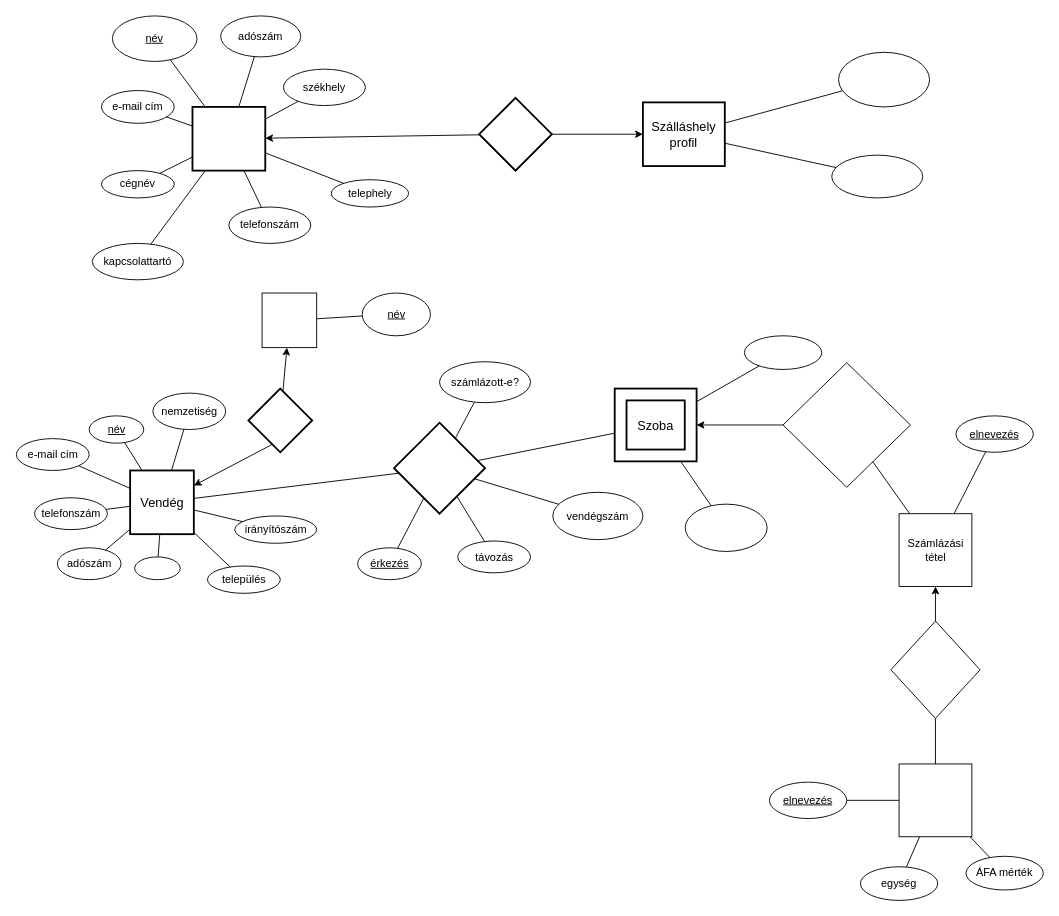
The diagram is 1059 pixels wide and 916 high, and some of its shapes have lost their labels. Here are the shapes that lost their labels. From the top down, the box of each, then its label:
(838, 51, 930, 107): szálláshely azonosító
(191, 106, 266, 171): Szálláshely
(478, 96, 552, 171): regisztrál
(831, 154, 923, 198): jelszó
(261, 292, 317, 348): Ország
(743, 335, 822, 369): szobaszám
(247, 387, 313, 453): érkezik
(782, 362, 910, 487): egy számlázási tétel
(393, 421, 485, 514): kivesz
(684, 503, 767, 551): kapacitás
(134, 556, 180, 580): lakcím
(890, 620, 980, 718): kategorizálható
(898, 763, 972, 837): Számlázási tétel kategória
